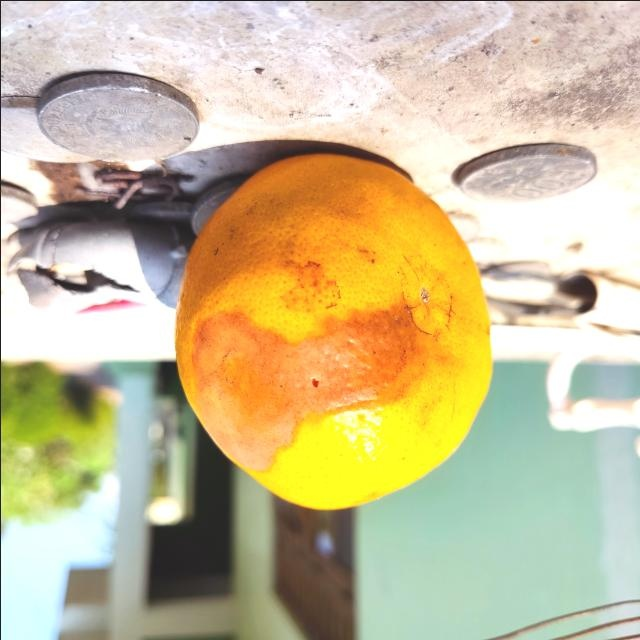agrume: (171, 153, 494, 511)
